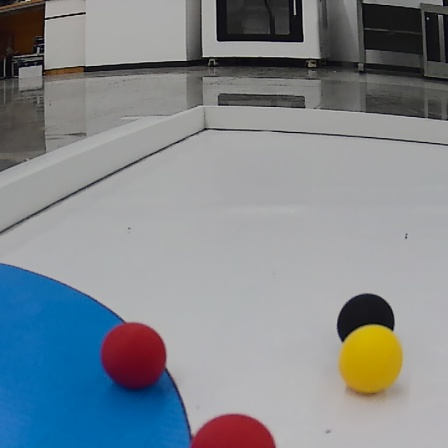black: (331, 291, 400, 341)
blue_base: (1, 259, 194, 448)
red: (98, 317, 169, 389), (189, 413, 275, 448)
yellow: (339, 325, 404, 396)
